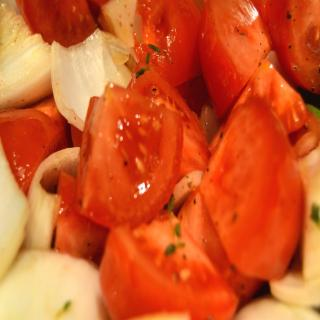tomato: (198, 90, 304, 280), (72, 81, 183, 236), (98, 210, 239, 320), (198, 0, 272, 120), (0, 107, 68, 199), (137, 0, 203, 89), (265, 0, 320, 97), (54, 170, 107, 266), (15, 0, 106, 46)
